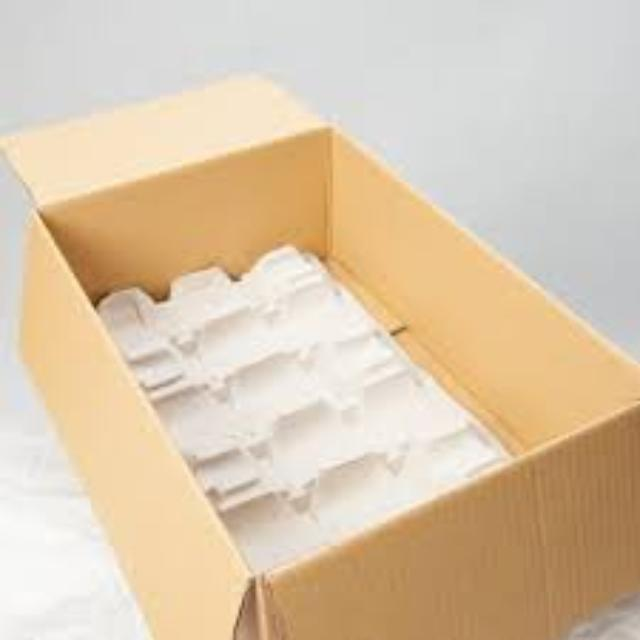cardboard paper: (0, 80, 634, 634)
